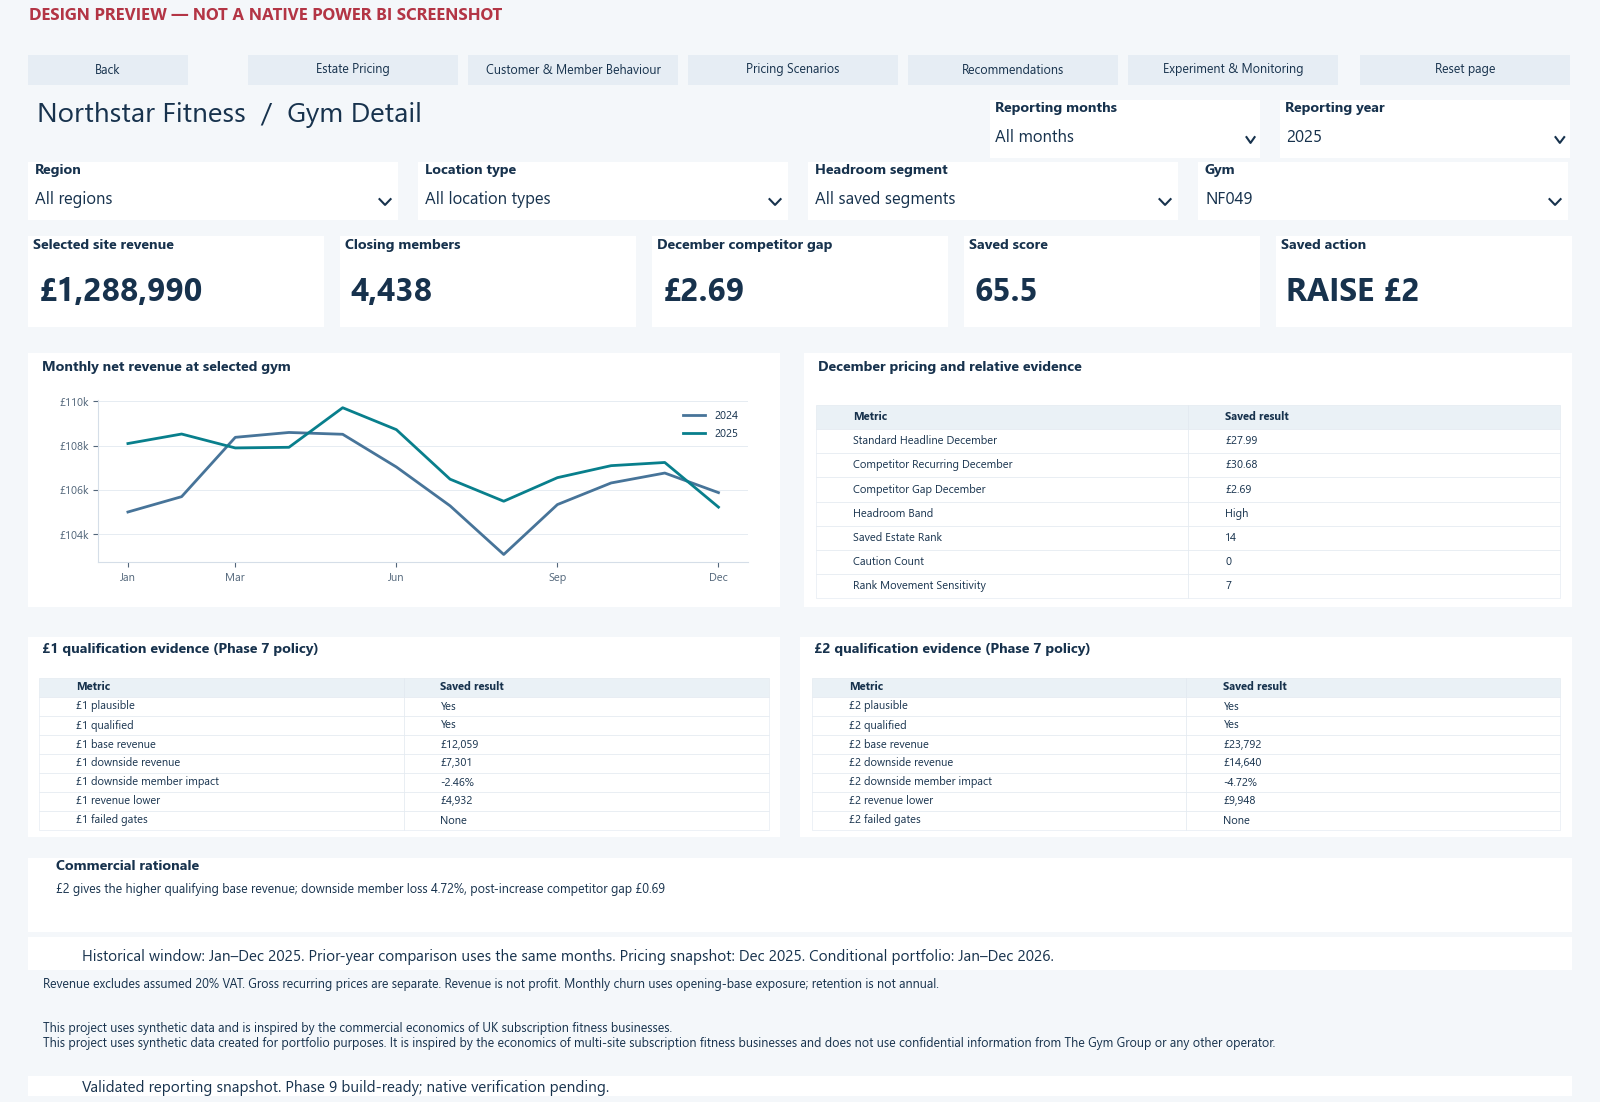

This screenshot's page, from the dashboard's own definition file:
{"tool":"powerbi","page":{"name":"Gym Detail","canvas":[1600,1176],"ordinal":6},"visuals":[{"type":"card","title":"Selected site revenue","fields":{"Values":["CommercialMeasures.Net Revenue"]},"box":[28,188,296,91],"z":0},{"type":"card","title":"Closing members","fields":{"Values":["CommercialMeasures.Closing Members"]},"box":[340,188,296,91],"z":1},{"type":"card","title":"December competitor gap","fields":{"Values":["CommercialMeasures.Competitor Gap December"]},"box":[652,188,296,91],"z":2},{"type":"card","title":"Saved score","fields":{"Values":["CommercialMeasures.Headroom Score"]},"box":[964,188,296,91],"z":3},{"type":"card","title":"Saved action","fields":{"Values":["CommercialMeasures.Saved Recommendation"]},"box":[1276,188,296,91],"z":4},{"type":"lineChart","title":"Monthly net revenue at selected gym","fields":{"Category":["DimHistoryMonth.month_name"],"Y":["CommercialMeasures.Net Revenue","CommercialMeasures.Net Revenue Prior Year"]},"box":[28,305,752,254],"z":5},{"type":"tableEx","title":"December pricing and relative evidence","fields":{"Values":["DimMetricPanel.metric","CommercialMeasures.Metric Panel Saved Value"]},"box":[804,305,768,254],"z":6},{"type":"tableEx","title":"£1 qualification evidence (Phase 7 policy)","fields":{"Values":["DimMetricPanel.metric","CommercialMeasures.Metric Panel Saved Value"]},"box":[28,589,752,200],"z":7},{"type":"tableEx","title":"£2 qualification evidence (Phase 7 policy)","fields":{"Values":["DimMetricPanel.metric","CommercialMeasures.Metric Panel Saved Value"]},"box":[800,589,772,200],"z":8},{"type":"tableEx","title":"Commercial rationale","fields":{"Values":["CommercialMeasures.Recommendation Explanation"]},"box":[28,810,1544,150],"z":9},{"type":"slicer","title":"Region","fields":{"Values":["DimGym.region"]},"box":[28,114,370,58],"z":10},{"type":"slicer","title":"Location type","fields":{"Values":["DimGym.location_type"]},"box":[418,114,370,58],"z":11},{"type":"slicer","title":"Headroom segment","fields":{"Values":["DimGym.segment"]},"box":[808,114,370,58],"z":12},{"type":"slicer","title":"Gym","fields":{"Values":["DimGym.gym_id"]},"box":[1198,114,370,58],"z":13},{"type":"slicer","title":"Reporting year","fields":{"Values":["DimHistoryMonth.year"]},"box":[1280,52,290,58],"z":14},{"type":"slicer","title":"Reporting months","fields":{"Values":["DimHistoryMonth.month_name"]},"box":[990,52,270,58],"z":15},{"type":"textbox","box":[28,47,940,51],"z":16},{"type":"card","fields":{"Values":["CommercialMeasures.Historical Reporting Note"]},"box":[28,970,1544,33],"z":17},{"type":"card","title":"Snapshot ID. Native acceptance is recorded in powerbi/NATIVE_VERIFICATION.md.","fields":{"Values":["CommercialMeasures.Snapshot Version"]},"box":[28,1107,1544,56],"z":18},{"type":"textbox","box":[28,1006,1544,35],"z":19},{"type":"textbox","box":[28,1047,1544,62],"z":20},{"type":"actionButton","title":"Estate Pricing","box":[248,7,210,30],"z":21},{"type":"actionButton","title":"Member Behaviour","box":[468,7,210,30],"z":22},{"type":"actionButton","title":"Scenarios","box":[688,7,210,30],"z":23},{"type":"actionButton","title":"Recommendations","box":[908,7,210,30],"z":24},{"type":"actionButton","title":"Experiment & Monitoring","box":[1128,7,210,30],"z":25},{"type":"actionButton","title":"Reset page","box":[1360,7,210,30],"z":26},{"type":"actionButton","title":"Back","box":[28,7,160,30],"z":27}]}

Visuals, with their boxes on the page's 1600x1176 design canvas (x1, y1, x2, y2). These are canvas units, not pixel positions in the 1600x1102 screenshot, which may show the page scaled, cropped or inside an application window:
"Selected site revenue" card: [28,188,324,279]
"Closing members" card: [340,188,636,279]
"December competitor gap" card: [652,188,948,279]
"Saved score" card: [964,188,1260,279]
"Saved action" card: [1276,188,1572,279]
"Monthly net revenue at selected gym" lineChart: [28,305,780,559]
"December pricing and relative evidence" tableEx: [804,305,1572,559]
"£1 qualification evidence (Phase 7 policy)" tableEx: [28,589,780,789]
"£2 qualification evidence (Phase 7 policy)" tableEx: [800,589,1572,789]
"Commercial rationale" tableEx: [28,810,1572,960]
"Region" slicer: [28,114,398,172]
"Location type" slicer: [418,114,788,172]
"Headroom segment" slicer: [808,114,1178,172]
"Gym" slicer: [1198,114,1568,172]
"Reporting year" slicer: [1280,52,1570,110]
"Reporting months" slicer: [990,52,1260,110]
textbox: [28,47,968,98]
card - CommercialMeasures.Historical Reporting Note: [28,970,1572,1003]
"Snapshot ID. Native acceptance is recorded in powerbi/NATIVE_VERIFICATION.md." card: [28,1107,1572,1163]
textbox: [28,1006,1572,1041]
textbox: [28,1047,1572,1109]
"Estate Pricing" actionButton: [248,7,458,37]
"Member Behaviour" actionButton: [468,7,678,37]
"Scenarios" actionButton: [688,7,898,37]
"Recommendations" actionButton: [908,7,1118,37]
"Experiment & Monitoring" actionButton: [1128,7,1338,37]
"Reset page" actionButton: [1360,7,1570,37]
"Back" actionButton: [28,7,188,37]
